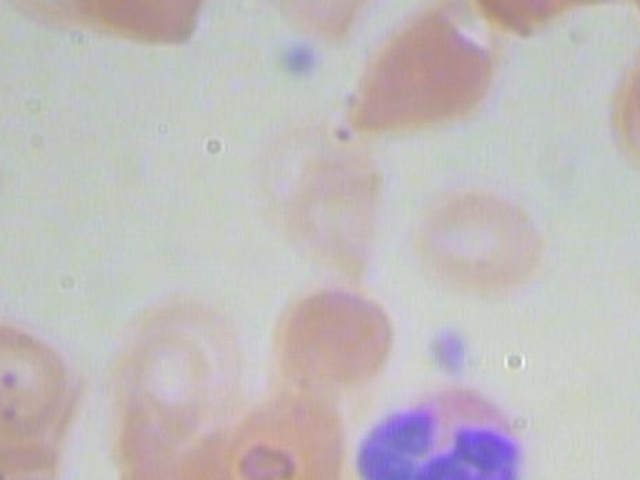Platelets: (420, 323, 481, 386), (269, 33, 330, 96)
RBC: (338, 0, 501, 137), (255, 151, 401, 284), (260, 277, 415, 392), (403, 181, 557, 296), (130, 294, 251, 408), (0, 305, 79, 438), (215, 414, 361, 480), (68, 0, 218, 61), (245, 0, 391, 36), (113, 435, 218, 480), (607, 48, 640, 181), (615, 0, 640, 89), (0, 466, 57, 480), (539, 0, 635, 7)
WBC: (341, 386, 550, 480)
